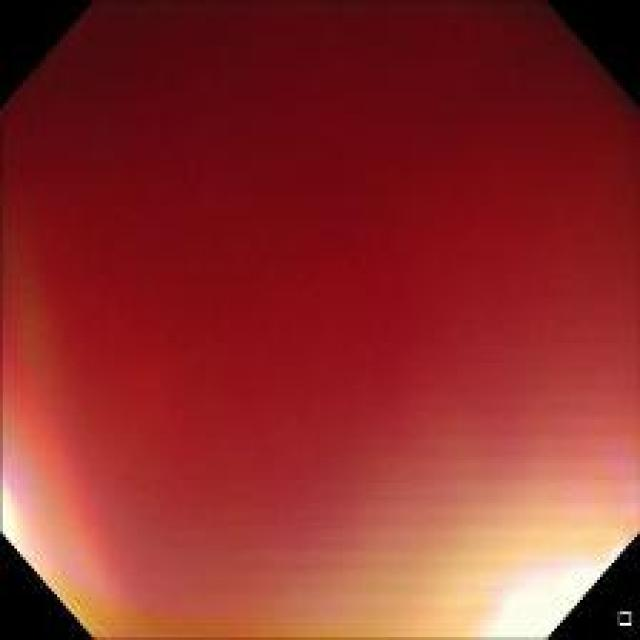color misalignment: (0, 1, 638, 638)
saturation: (476, 544, 622, 639), (0, 472, 28, 560)
